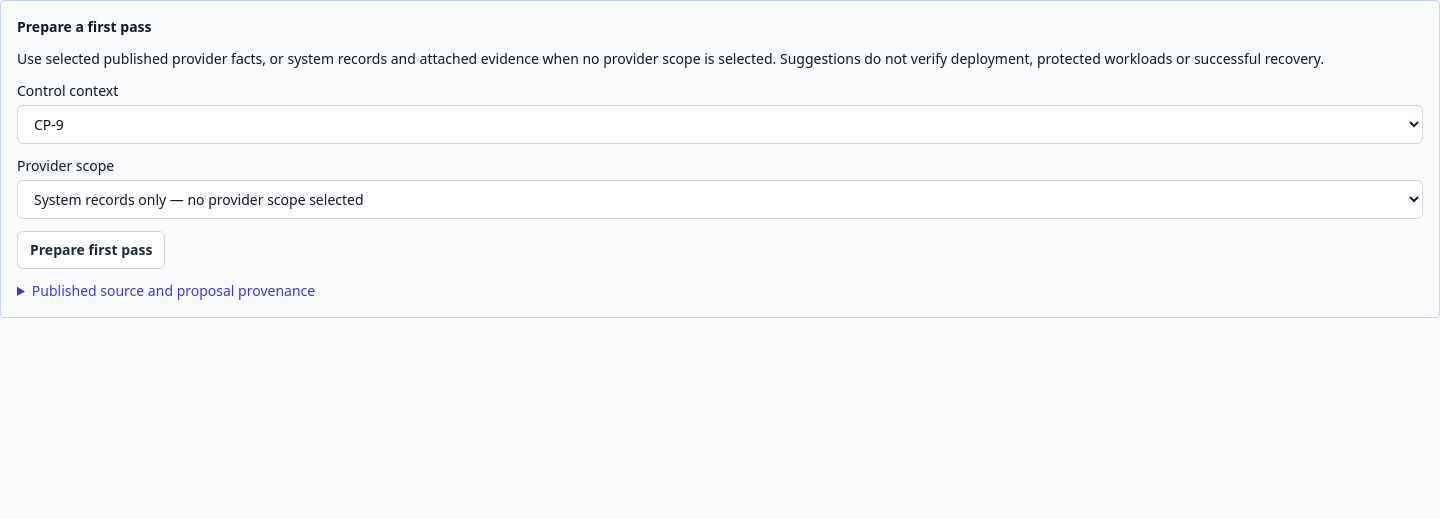
Test: quotes explicit provider units from RPO target 1 hour; RTO target 1 day.
Select "Flankspeed production" in the dropdown labelled "Provider scope": (720, 200) left=17, top=180, right=1423, bottom=219
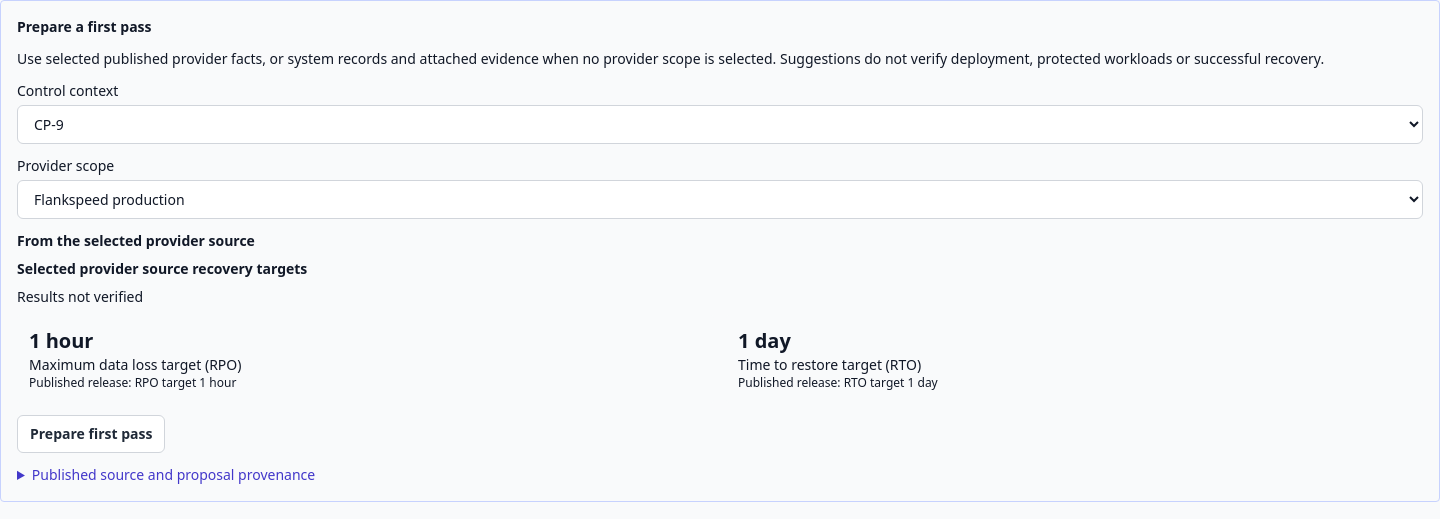
Now the text "1 hour" is shown, box left=29, top=327, right=93, bottom=354
Now the text "1 day" is shown, box left=738, top=327, right=791, bottom=354
Now the text "Results not verified" is shown, box left=17, top=287, right=143, bottom=306
